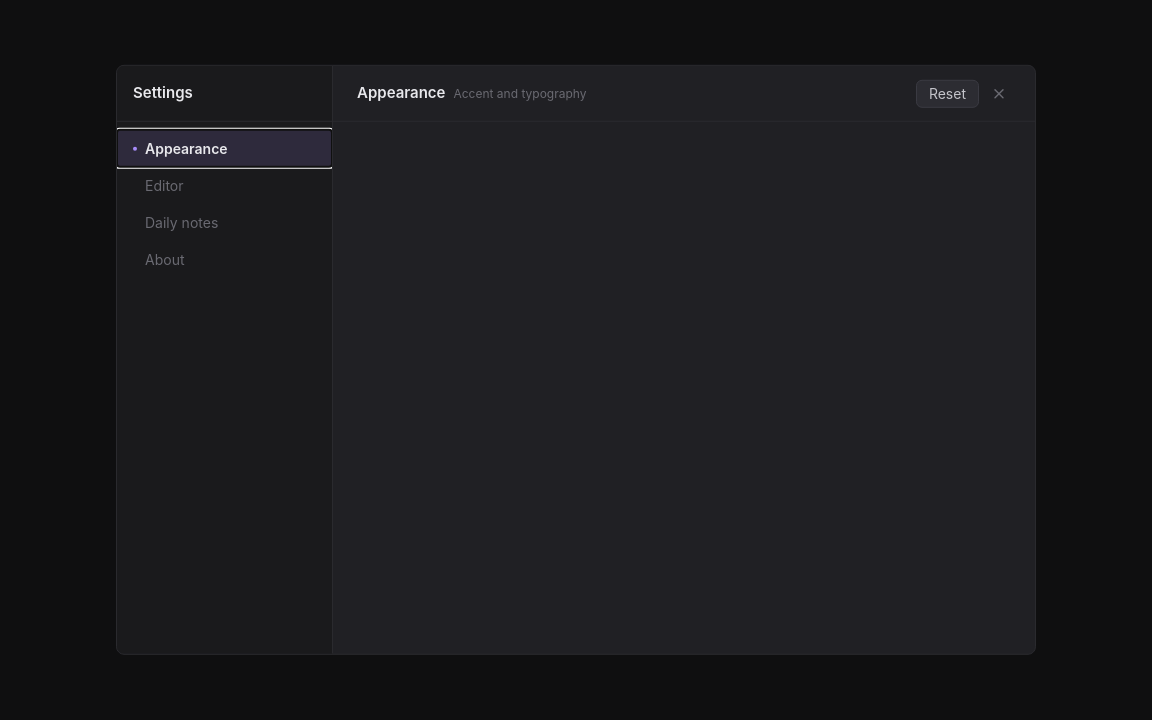
Test case: <SettingsDialogShell /> › per-section Reset › a failing reset renders the save-error banner
The width and height of the screenshot is (1152, 720).
Click the button "Editor".
click(224, 185)  # box [117,167,332,204]
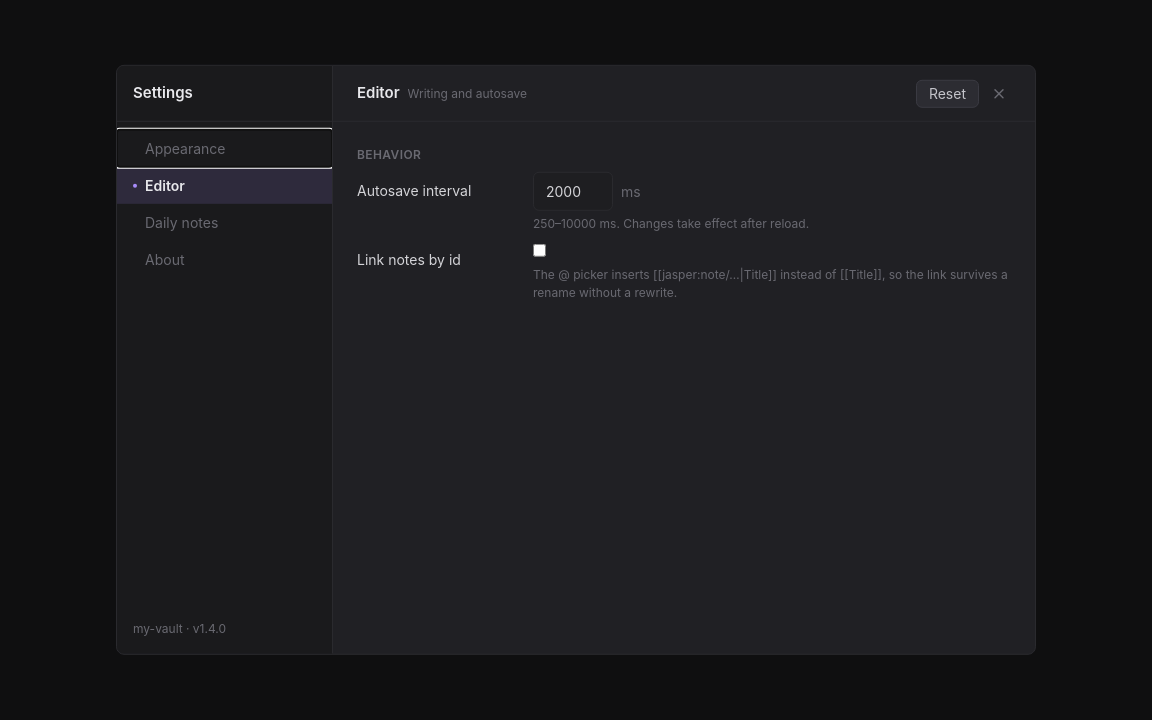
Expected: the number field labelled "Autosave interval" is shown, [533,172,613,211]
Click the button "Reset".
click(947, 93)  # box [916,79,979,107]
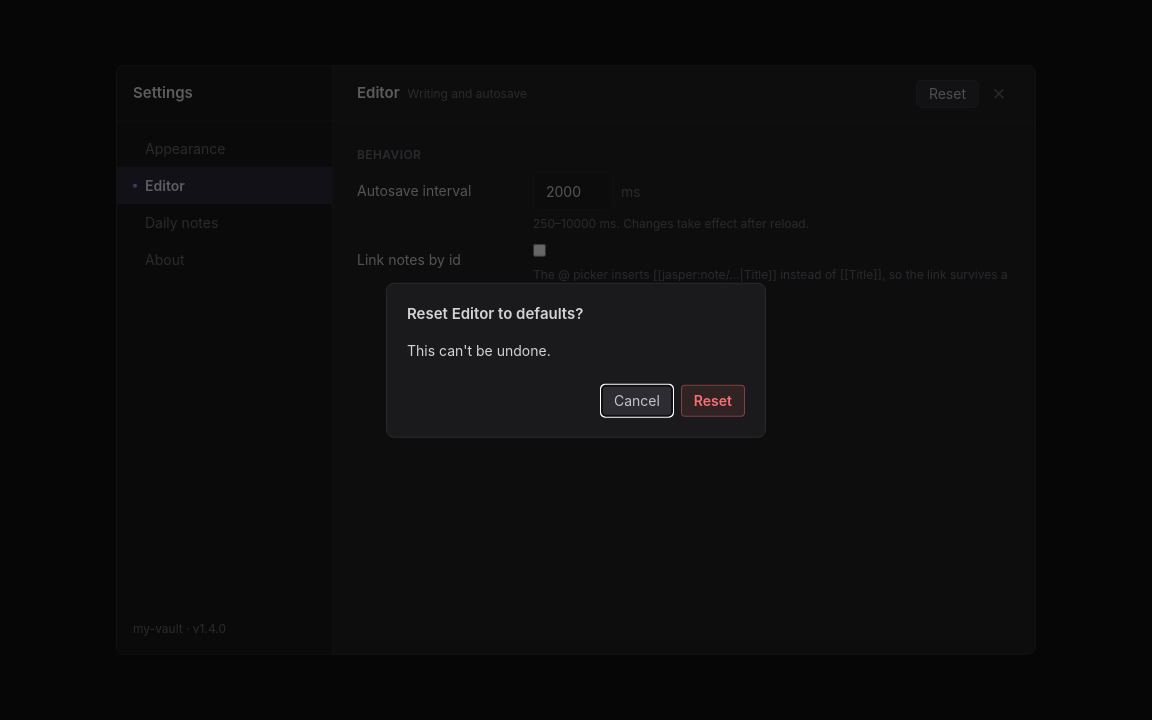
Click the button "Reset".
click(713, 400)  # box [681,384,745,416]
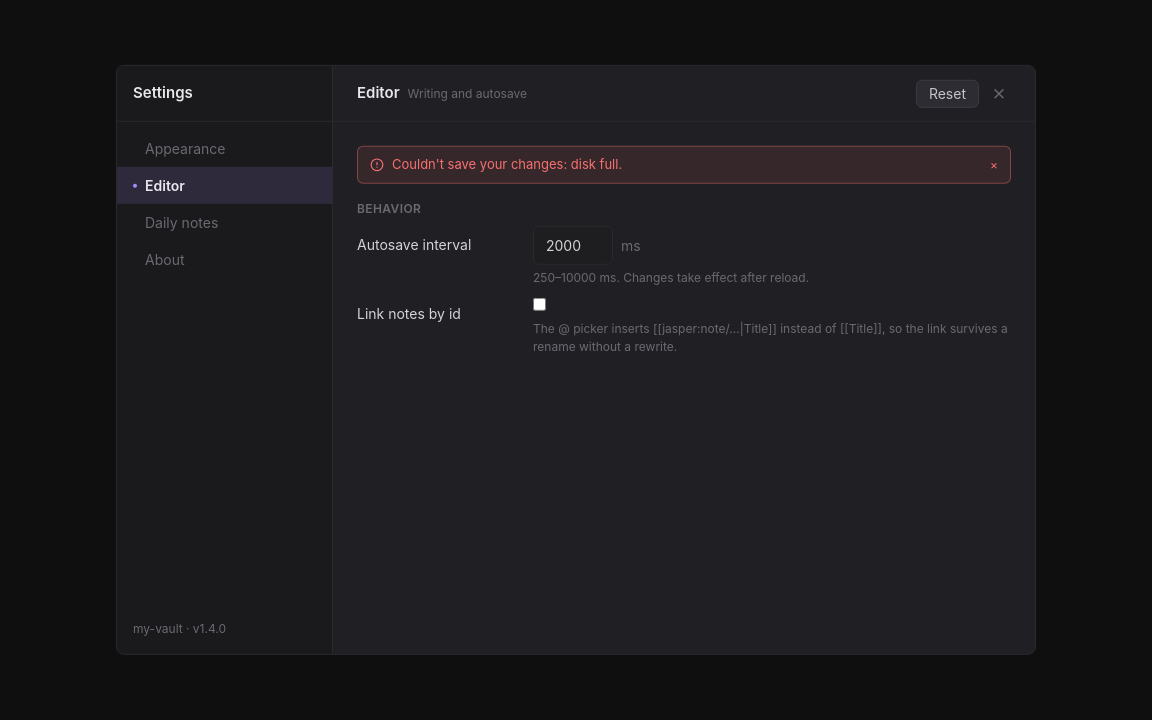
Expected: the message shows "disk full", [392,156,622,172]
